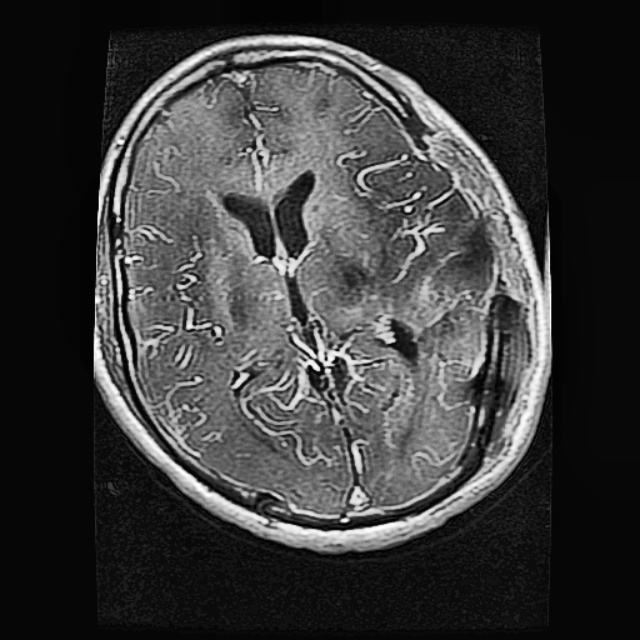Pituitary: (415, 292, 532, 467)
